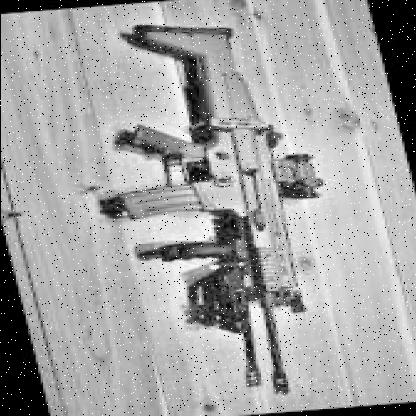rifle: (71, 16, 356, 404)
